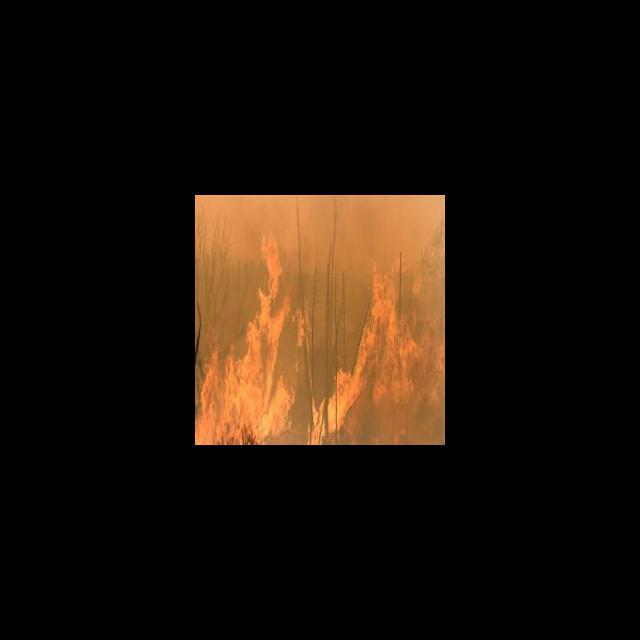Fire: (195, 226, 444, 444)
